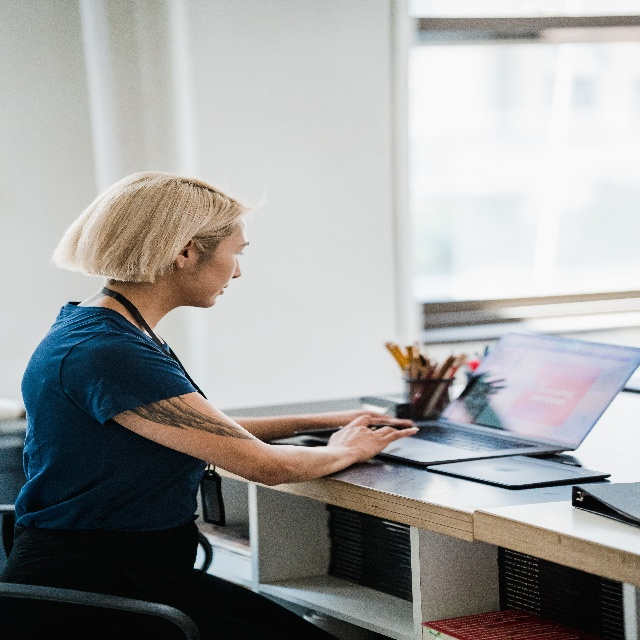Sin_guantes: (327, 413, 419, 464)
